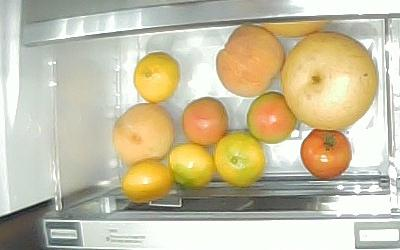peach: (215, 24, 285, 98), (111, 103, 175, 166)
pear: (280, 31, 377, 129)
tangerine: (214, 133, 265, 187), (133, 51, 180, 103), (123, 159, 173, 203), (168, 143, 214, 190)
tomato: (300, 128, 352, 179), (246, 91, 296, 144), (181, 96, 228, 145)
